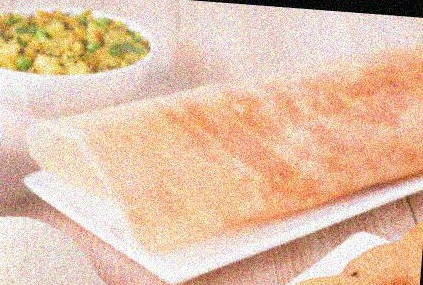dosa: (25, 44, 423, 256)
